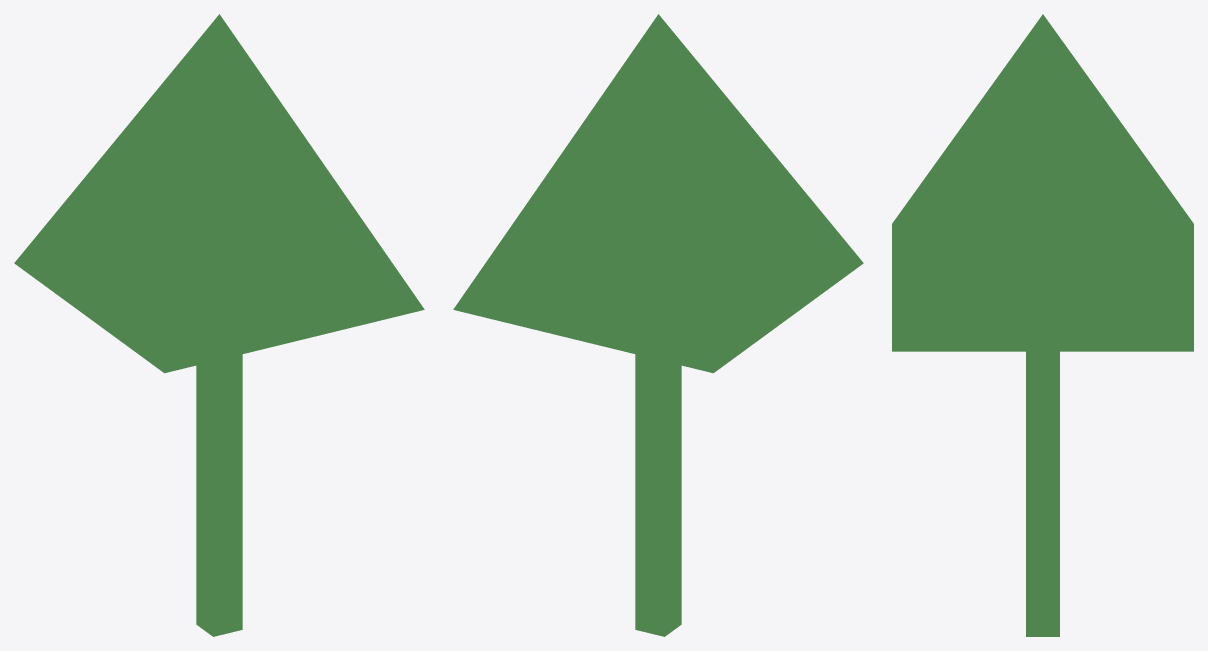
The model's file is pine_near.glb.
The picture shows the model from 3 angles, left to right: view 1: azimuth 30°, elevation 25°; view 2: azimuth 150°, elevation 25°; view 3: azimuth 270°, elevation 25°; orthographic projection.
Parts seen in each view (by area): view 1: PineNear; view 2: PineNear; view 3: PineNear.
Part boxes in pixels (x1,y1,x2,y2): PineNear: (14, 14, 424, 636); PineNear: (453, 14, 863, 636); PineNear: (892, 14, 1193, 636).
Bounding box in the file's own units: 8 × 18 × 8.
